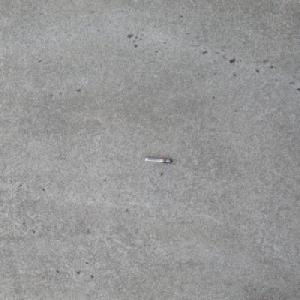Battery: (144, 157, 173, 163)
